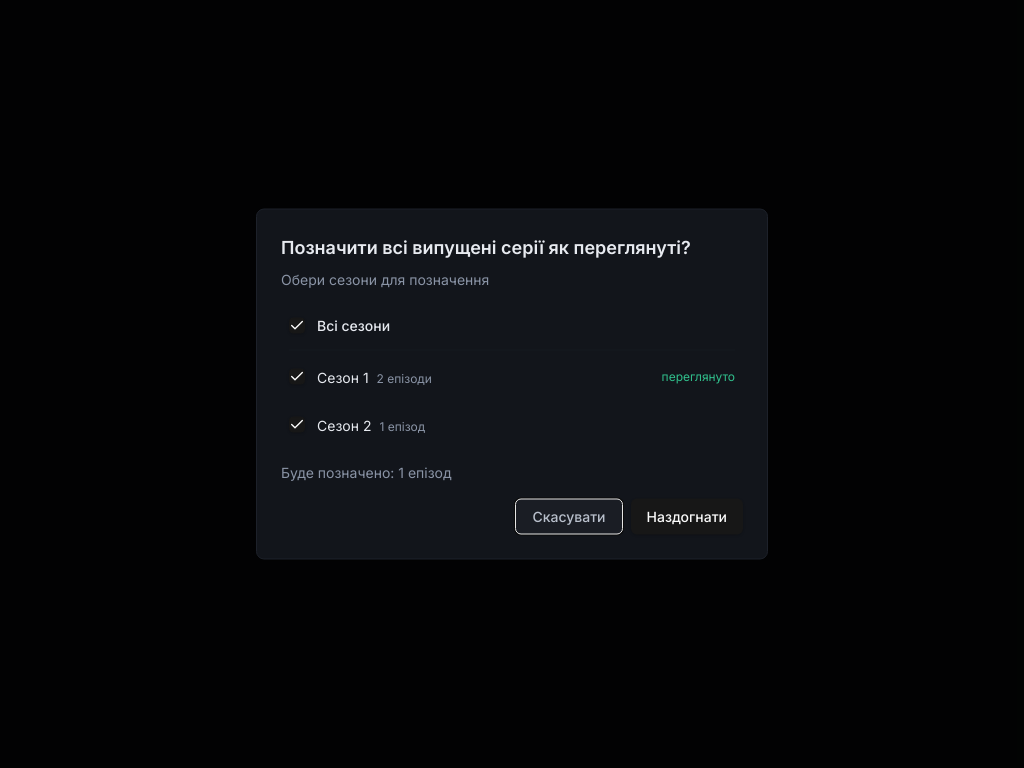
CatchUpDialog › dynamic confirm button label › shows "Зберегти" when there is at least one season to unmark
The width and height of the screenshot is (1024, 768).
Click the checkbox next to "Сезон 1" at (297, 376), box [289,368,305,384]
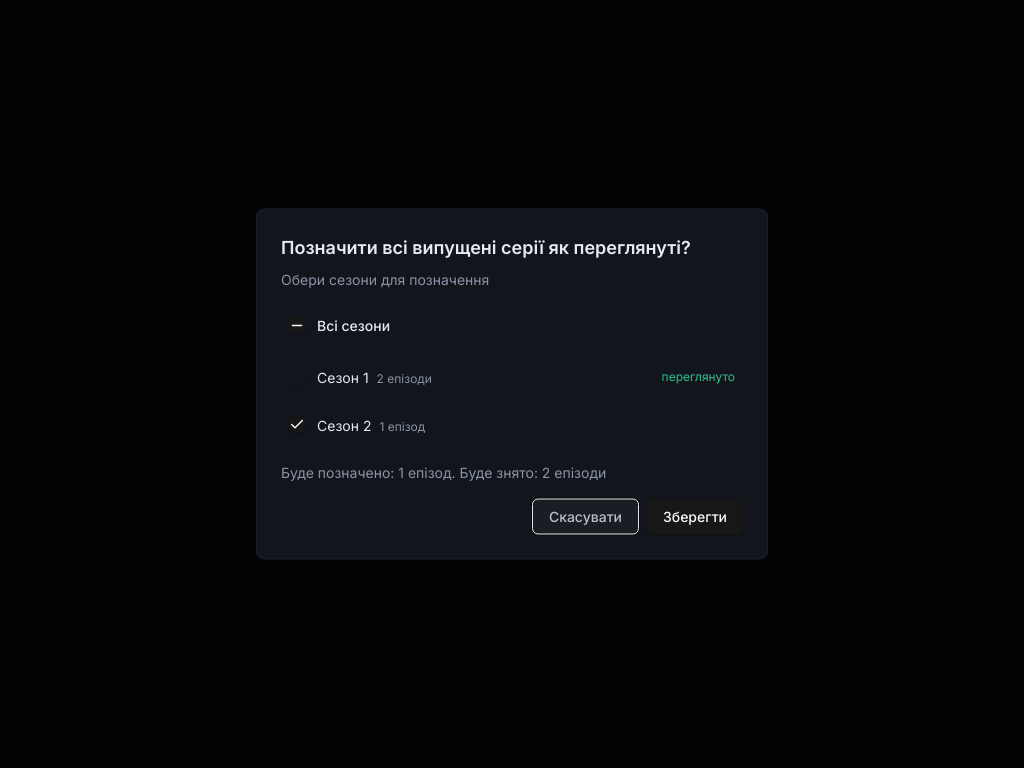
Now the button "Зберегти" is shown, box [647,498,743,534]
